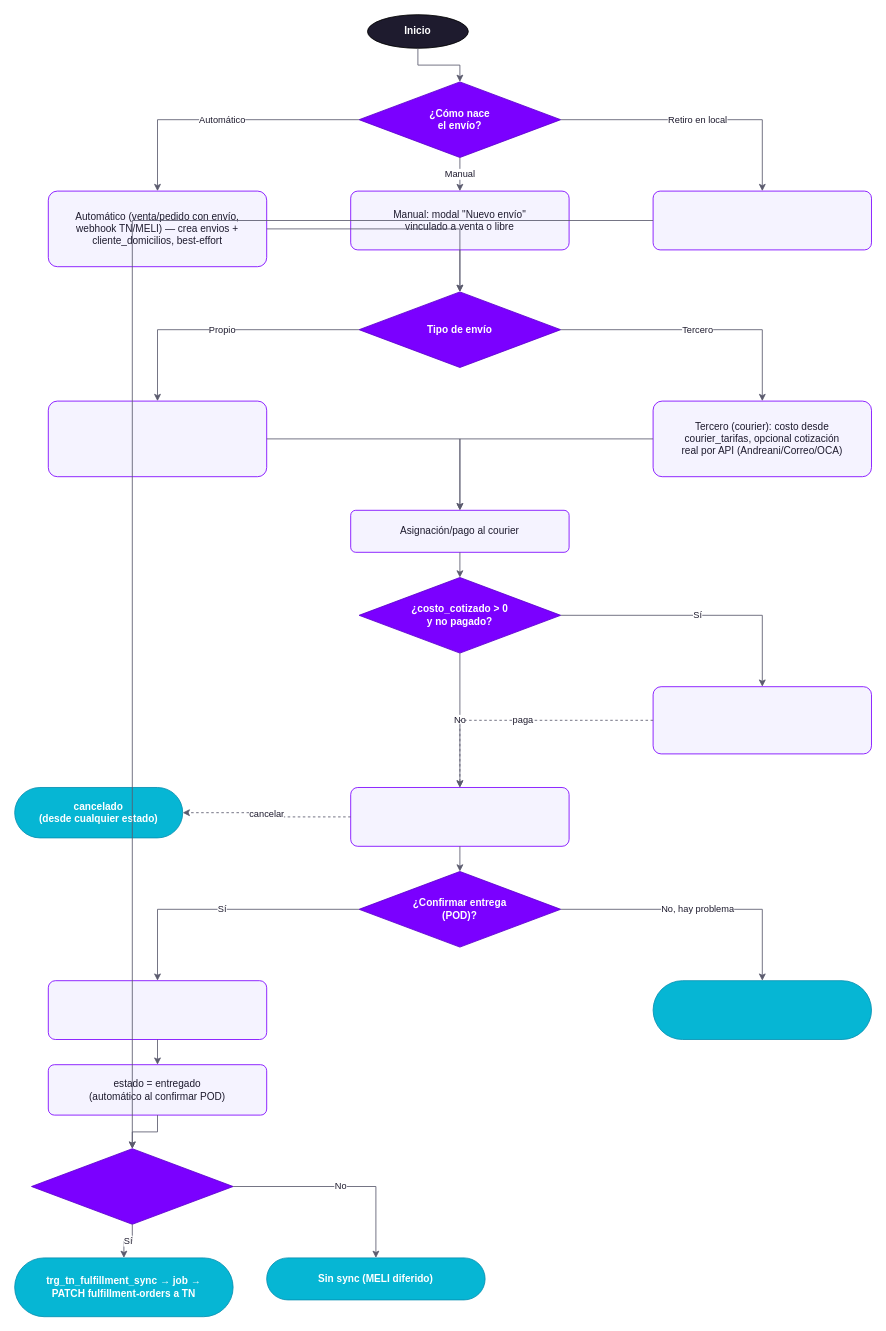
The diagram is 886 pixels wide and 1331 high, and some of its shapes have lost their labels. Here are the shapes that lost their labels. From the top down, the box of each, then its label:
(652, 190, 872, 250): Retiro en local: nace directo en estado=entregado
(47, 400, 267, 477): Propio (KM): Google Places + Distance Matrix, costo = KM × costo_km no editable
(652, 686, 872, 754): Bloquea avanzar estado hasta "Marcar pagados" (doble firma sobre umbral)
(350, 787, 569, 846): pendiente → despachado → en_camino → en_bodega
(47, 980, 267, 1040): Modal POD: fecha, receptor, foto(s), notas
(652, 980, 872, 1040): estado = devolucion CTA → flujo de Devolución del POS
(31, 1148, 233, 1224): ¿canal = TiendaNube?
